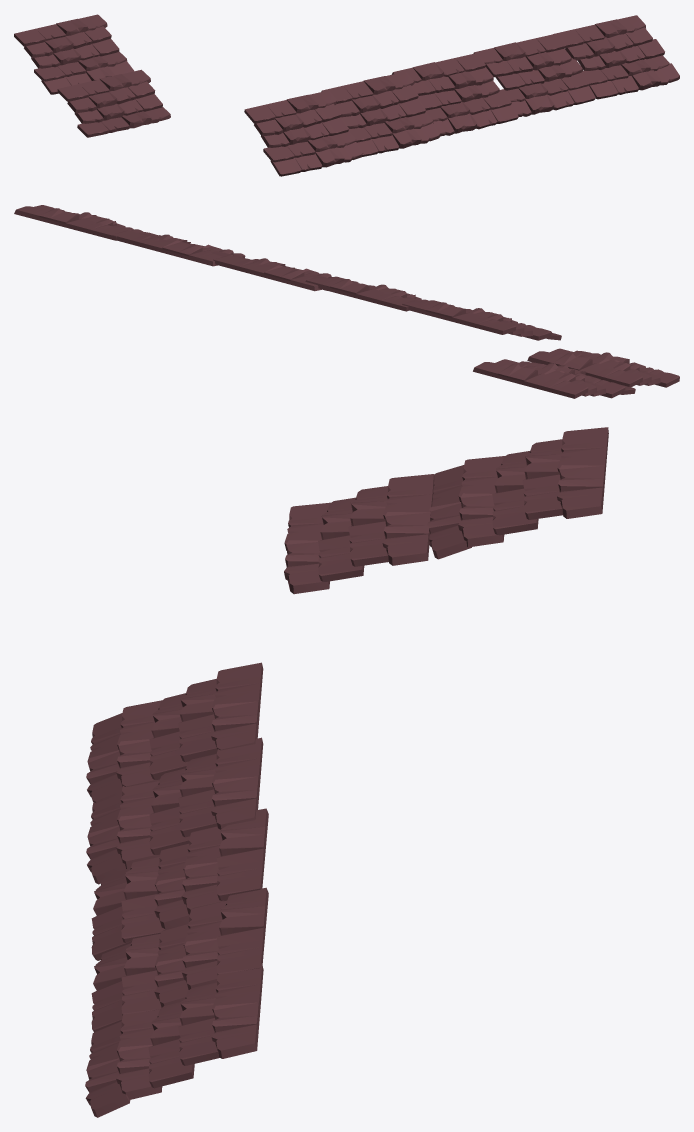
Rendered from RoofGroup.fbx.
3 views of the same model, one above another, from view 1: azimuth 30°, elevation 25°; view 2: azimuth 150°, elevation 25°; view 3: azimuth 270°, elevation 25° (orthographic). The views are drawn at different scales.
Visible parts, largest first — view 1: RoofGroup_Merged; view 2: RoofGroup_Merged; view 3: RoofGroup_Merged.
Part boxes in pixels (box(x1,y1,x2,y2)): RoofGroup_Merged: box(14, 14, 679, 176); RoofGroup_Merged: box(14, 205, 679, 398); RoofGroup_Merged: box(85, 427, 608, 1117).
Bounding box in the file's own units: 1803 × 272 × 752.
